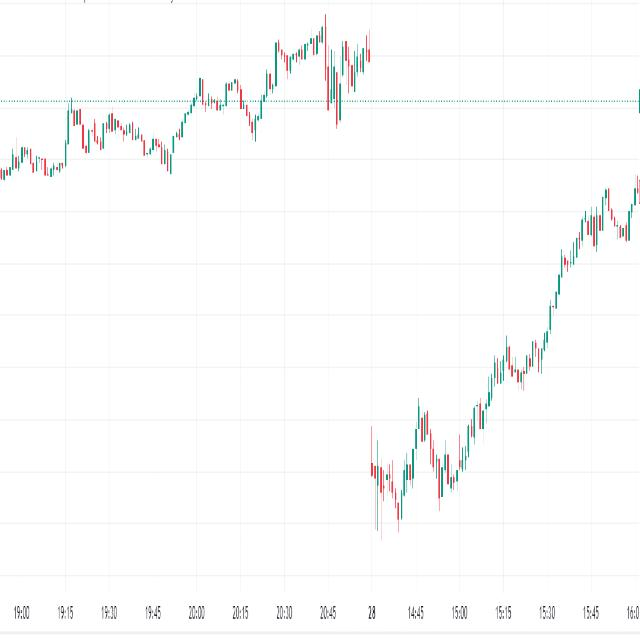Channel-down: (55, 79, 182, 196), (404, 378, 462, 534)
Channel-up: (512, 148, 619, 409), (440, 318, 522, 526), (387, 376, 439, 544)
